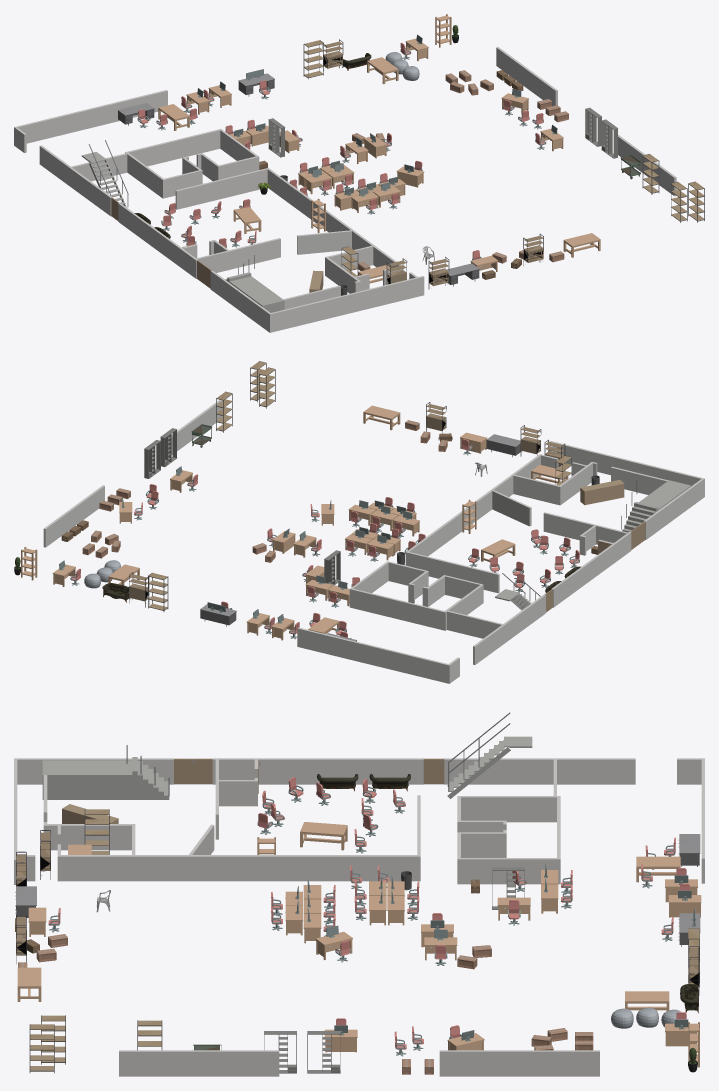
The model's file is office_555.glb.
3 views of the same model, one above another, from view 1: azimuth 30°, elevation 25°; view 2: azimuth 150°, elevation 25°; view 3: azimuth 270°, elevation 25° (orthographic). The views are drawn at different scales.
Parts seen in each view (by area): view 1: world; view 2: world; view 3: world.
Part boxes in pixels (bbox=[...]): world: bbox=[14, 14, 704, 332]; world: bbox=[14, 361, 704, 683]; world: bbox=[14, 712, 704, 1076].
Size of the model in its own units: 30.3 by 3.67 by 30.15.
